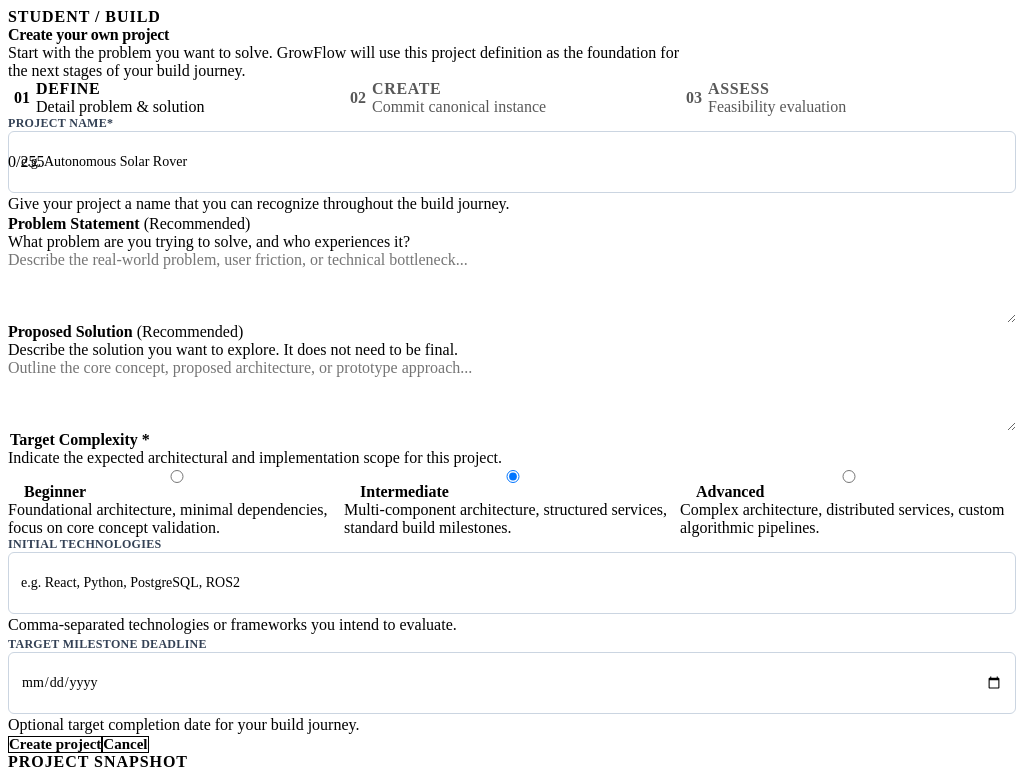
S03 — Student Project Create (/student/projects/new) › 13. handles 401 Unauthorized by displaying calm session expiration message
This screenshot has width=1024, height=768.
Type "Session Test" into the field labelled "Project Name *" at coordinates (512, 162), box [8,131,1016,193]
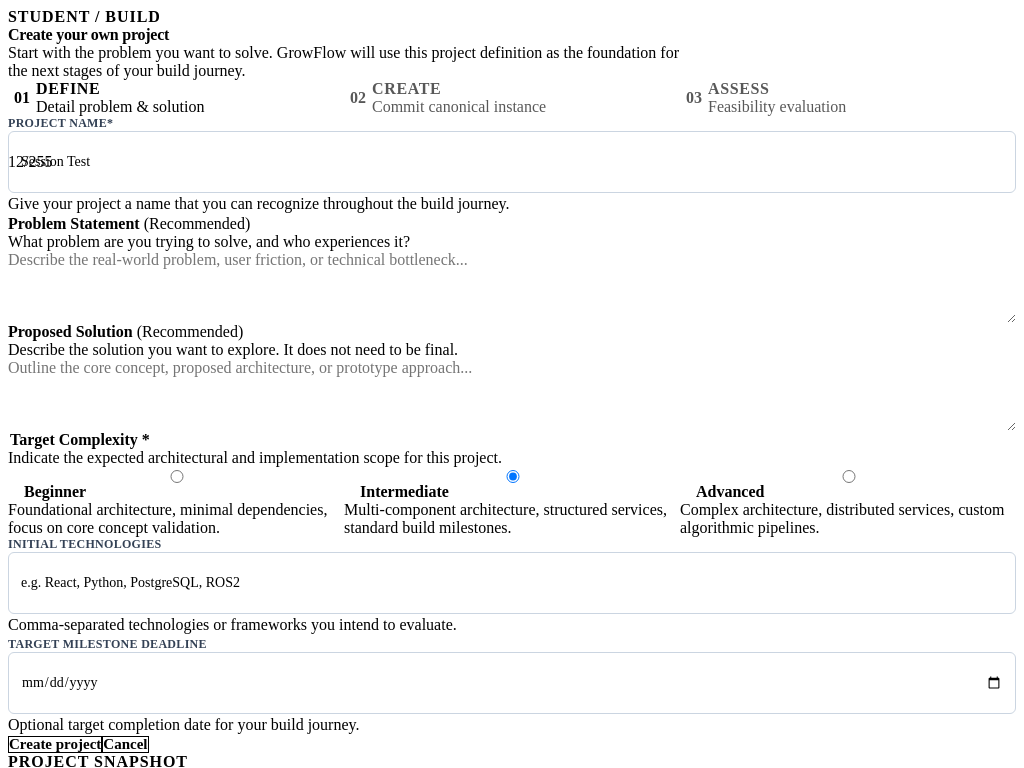
Click the button "Create project" at coordinates (55, 745), box [8,736,102,753]
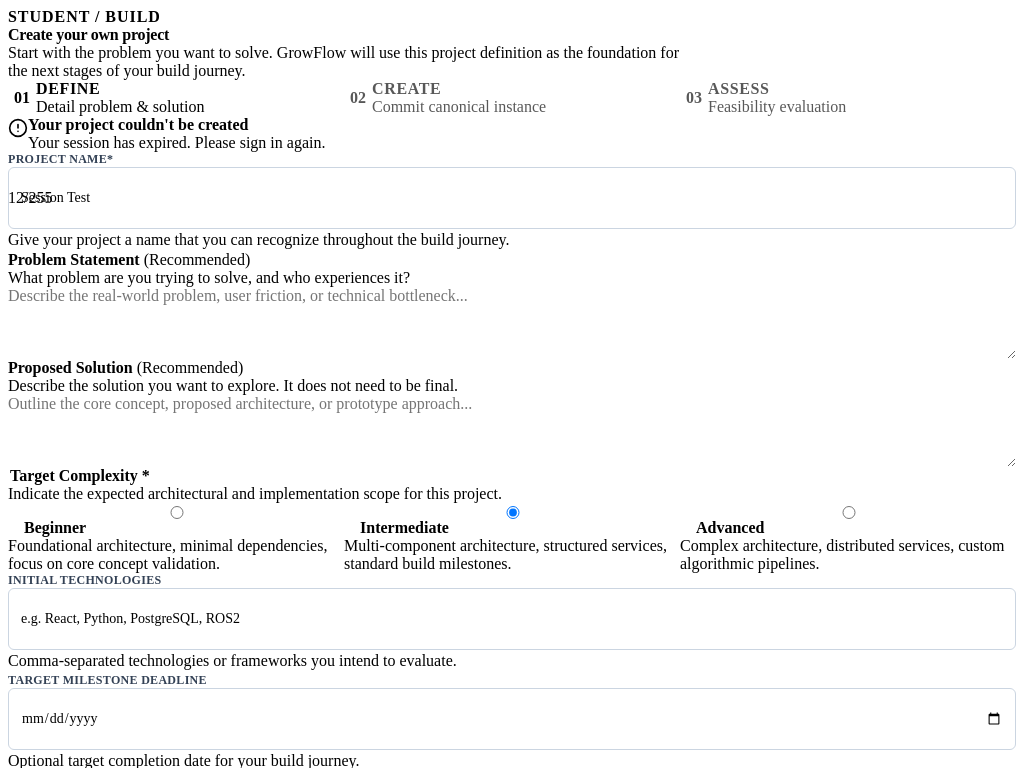
Result: the text "Your session has expired. Please sign in again." is shown at [28,134,326,152]
